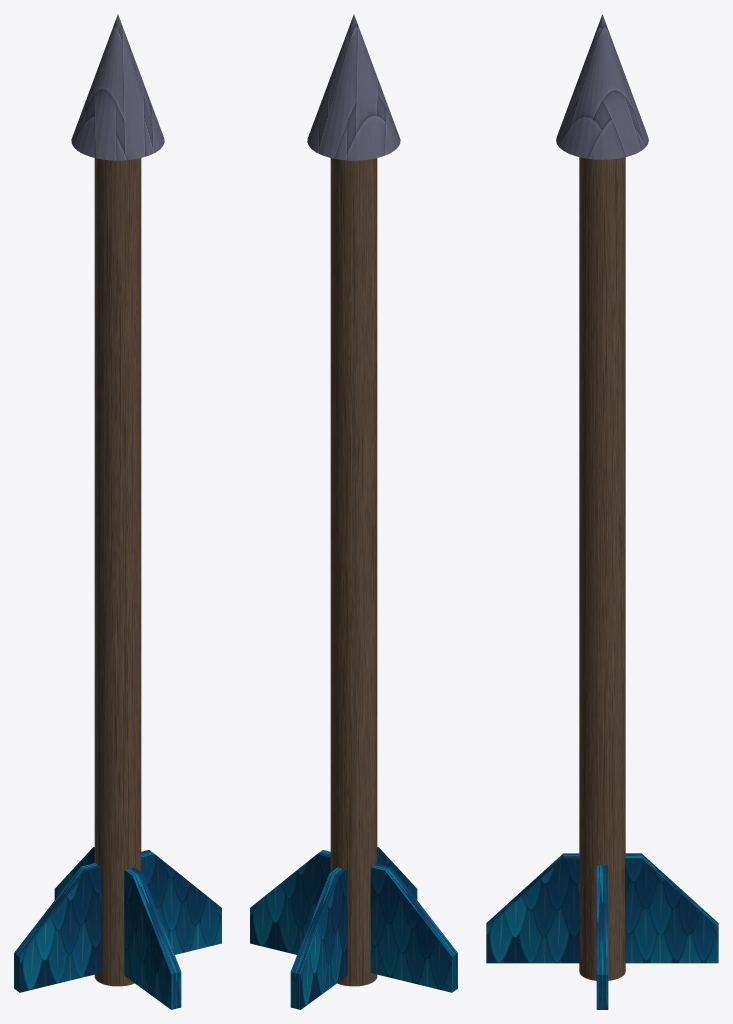
The model's file is arrow.glb.
3 renders of one model, left to right at view 1: azimuth 30°, elevation 25°; view 2: azimuth 150°, elevation 25°; view 3: azimuth 270°, elevation 25°, orthographic.
Bounding box in the file's own units: 0.2 × 0.91 × 0.2.
Materials: 3 (3 with a texture image).
